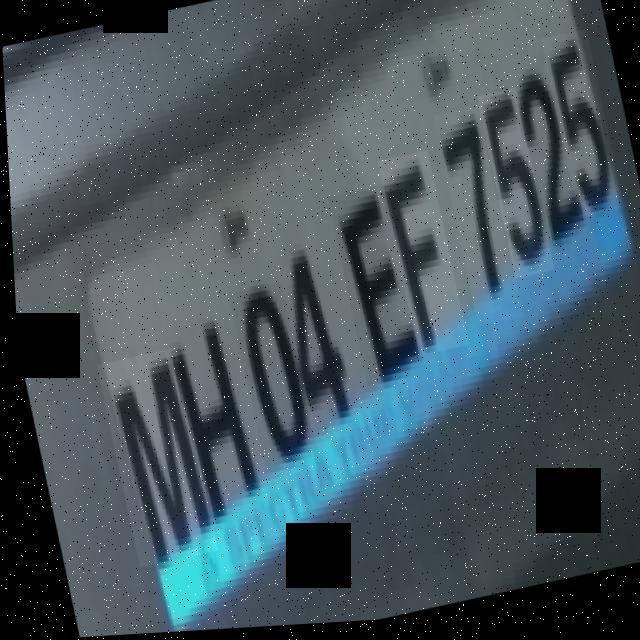0: (225, 284, 315, 478)
4: (267, 238, 357, 436)
5: (540, 35, 622, 225), (476, 92, 552, 286)
7: (432, 110, 522, 334)
E: (325, 187, 422, 392)
F: (376, 154, 465, 362)
H: (158, 317, 263, 525)
M: (93, 348, 212, 570)
